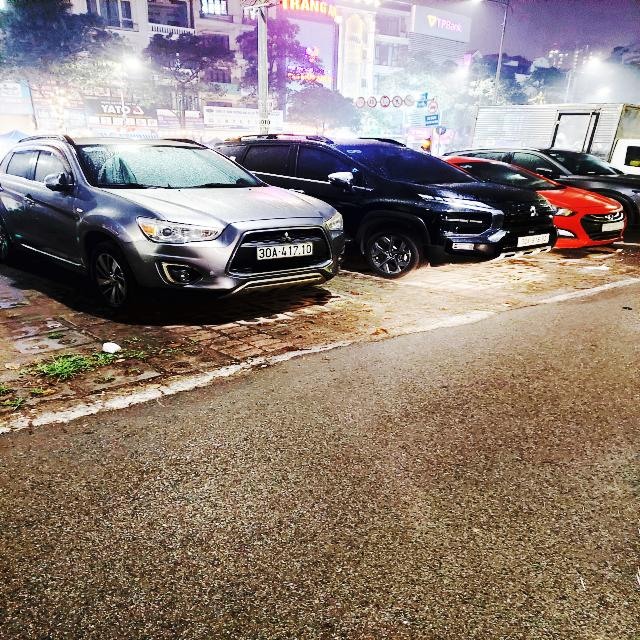license_plate: (255, 241, 317, 264), (517, 233, 551, 248)
